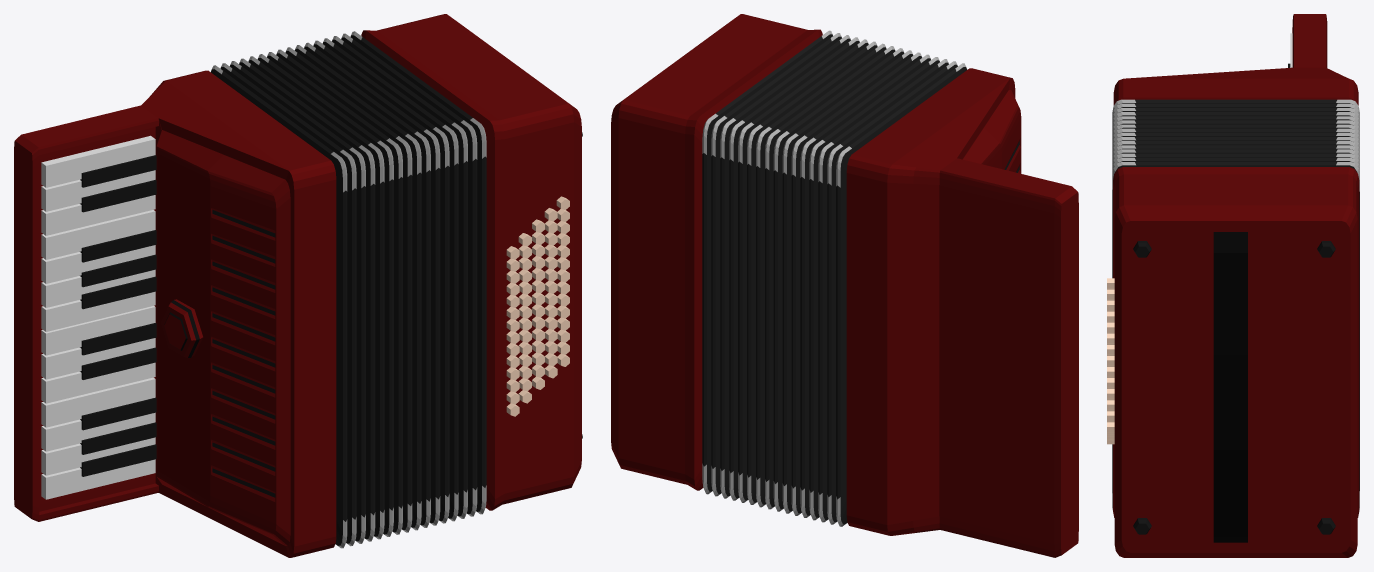
File: Accordion02.fbx
The picture shows the model from 3 angles, left to right: view 1: azimuth 30°, elevation 25°; view 2: azimuth 150°, elevation 25°; view 3: azimuth 270°, elevation 25°; orthographic projection. The views are drawn at different scales.
Parts seen in each view (by area): view 1: Cube.004; view 2: Cube.004; view 3: Cube.004.
Part boxes in pixels (<box>): Cube.004: <box>14,14,582,557</box>; Cube.004: <box>611,14,1078,557</box>; Cube.004: <box>1107,14,1359,557</box>.
Size of the model in its own units: 57.17 by 43.51 by 27.78.
